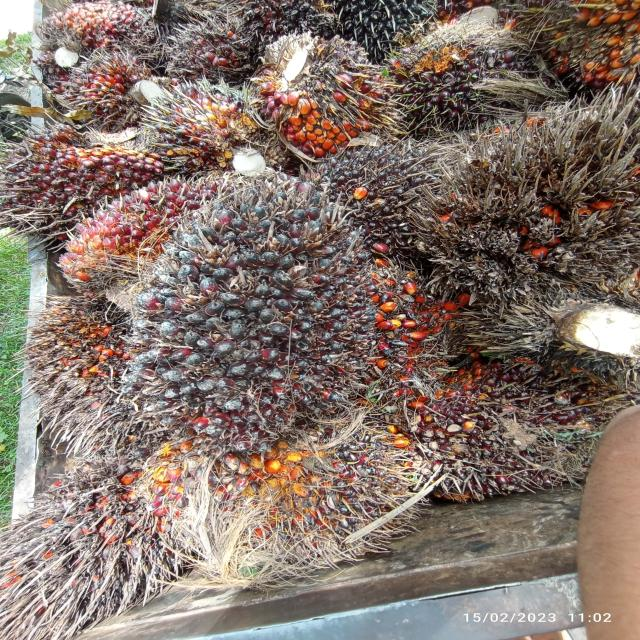fraksi 00: (118, 171, 396, 439)
fraksi 1: (400, 373, 600, 527), (45, 177, 214, 281), (3, 132, 155, 210)
fraksi 3: (120, 418, 412, 580), (246, 29, 410, 161)
fraksi 4: (418, 67, 640, 298), (0, 474, 147, 628), (26, 298, 131, 426)
